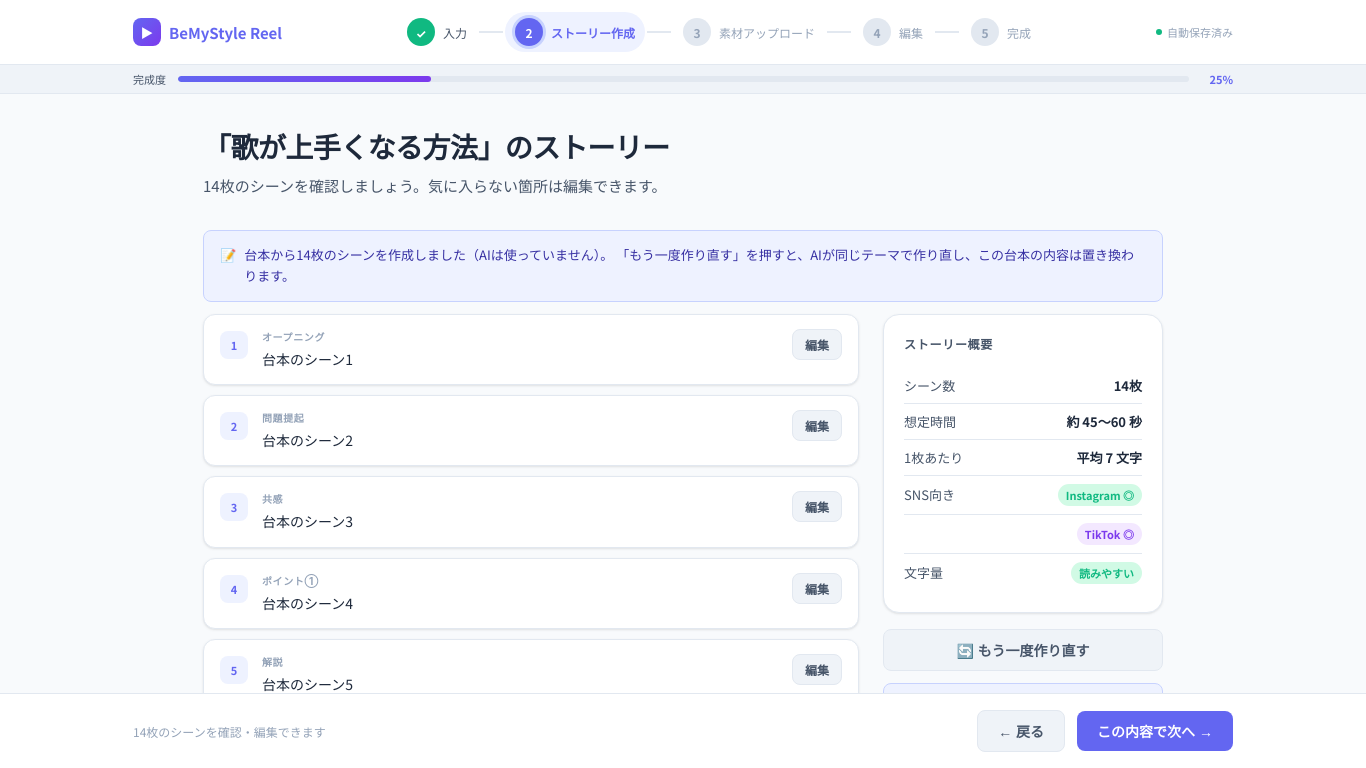
Test: WizardMode: 台本の受け取り（initialScript） › テーマを変えて「次へ」を押した場合は従来どおりAIで作り直す（明示的な操作）
Click the button "← 戻る" at (1021, 731), box 977,710 -> 1065,752
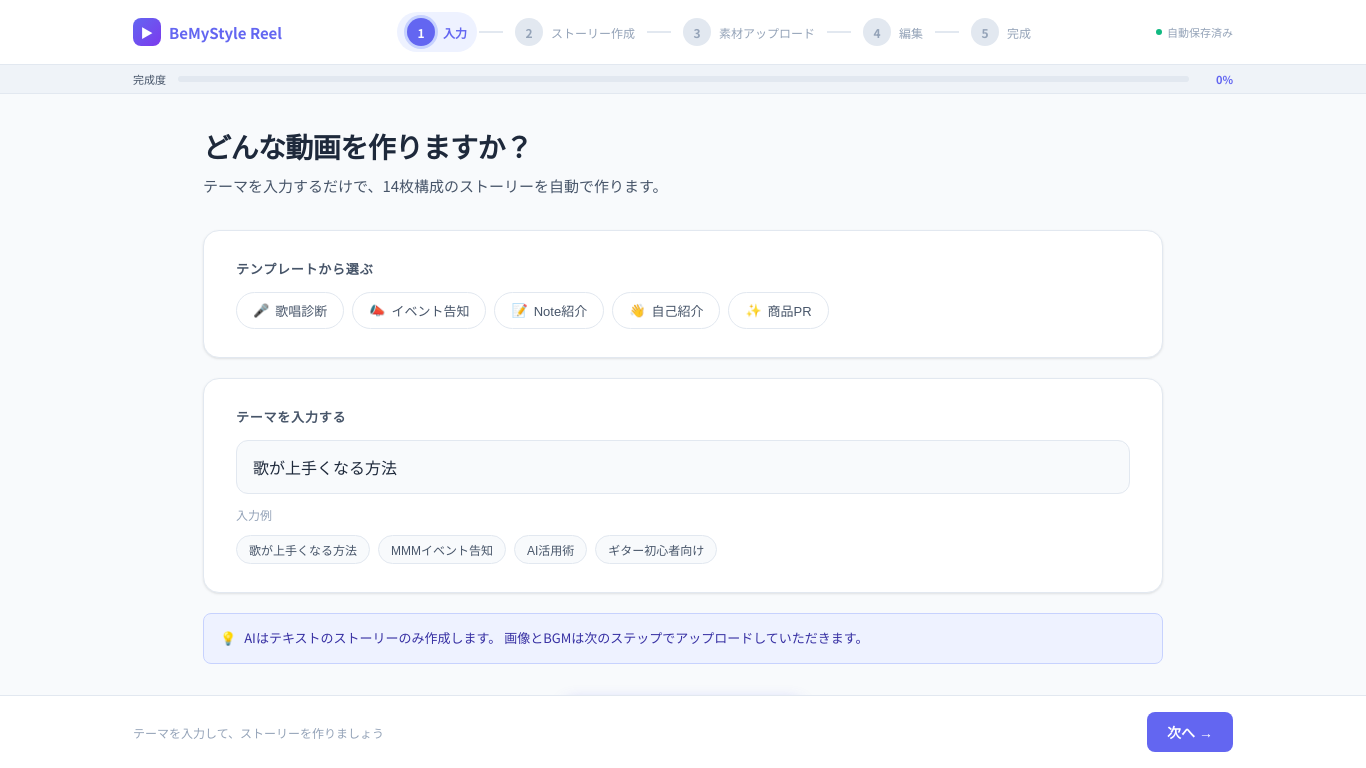
Replace the text in the field with "別のテーマ" at (683, 467), box 236,440 -> 1130,494
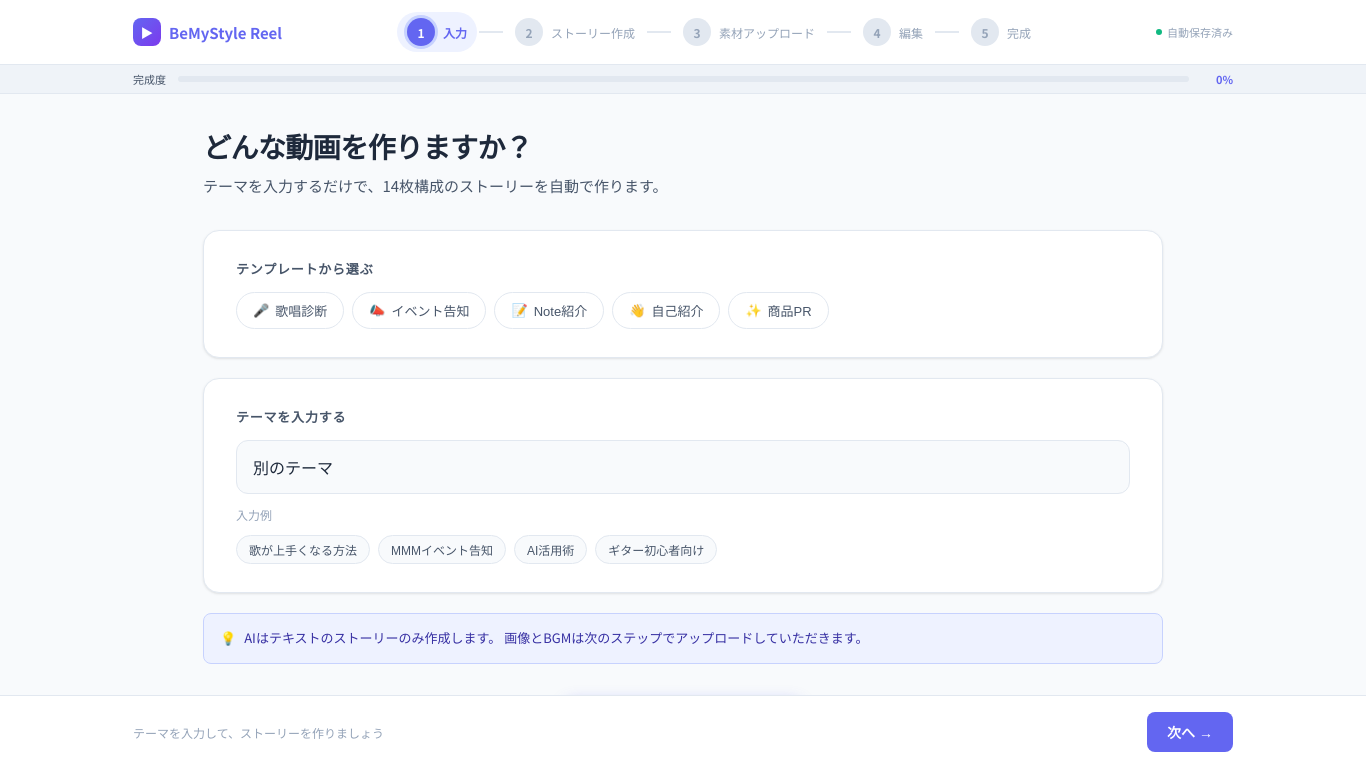
Click the button "次へ →" at (1190, 732), box 1147,712 -> 1233,752
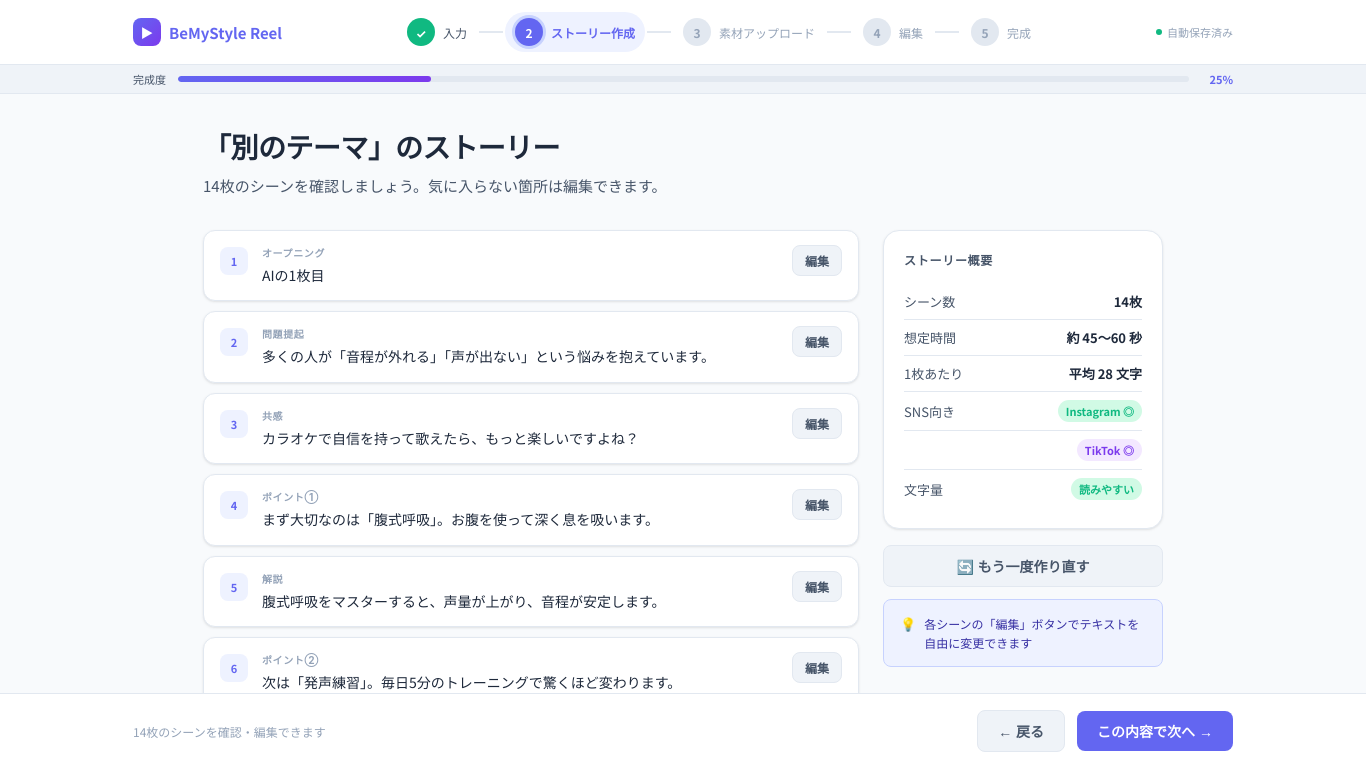
Expected: the text with class "wz-story-text" reads "AIの1枚目", 262,265 -> 324,285
